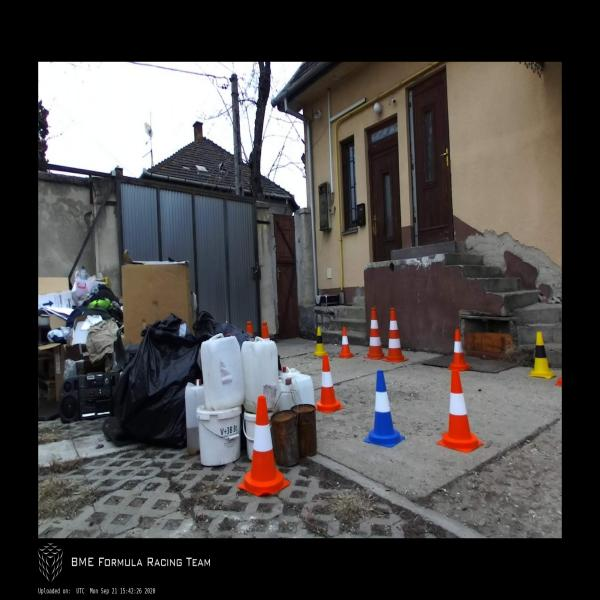blue_cone: (364, 370, 405, 447)
large_orange_cone: (382, 307, 409, 363), (364, 307, 386, 360), (262, 322, 270, 338), (246, 321, 254, 336)
orange_cone: (237, 394, 290, 497), (437, 368, 483, 453), (316, 353, 345, 413), (447, 328, 469, 372), (338, 326, 354, 358)
yellow_cone: (528, 331, 556, 378), (314, 326, 328, 357)
